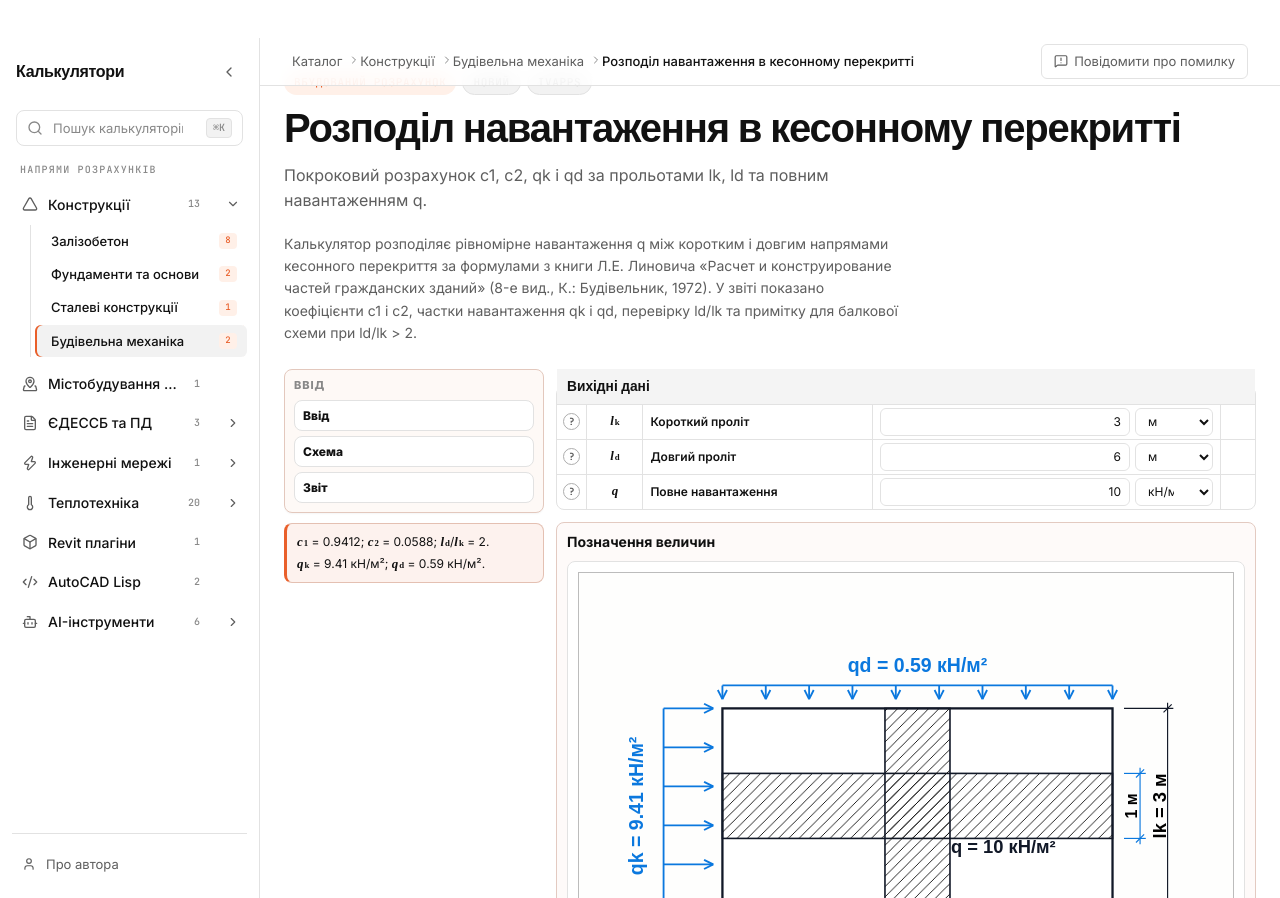
Test: CalculatorShell › renders the native cassoon load distribution calculator with a step report
Expected: the heading "Розподіл навантаження в кесонному перекритті" is shown, [284, 107, 1256, 151]
Expected: the text "Короткий проліт" is shown, [643, 405, 873, 439]
Replace the text in the field labelled "Довгий проліт" with "6.3": (1005, 457) [880, 443, 1130, 471]
(page scrolled)
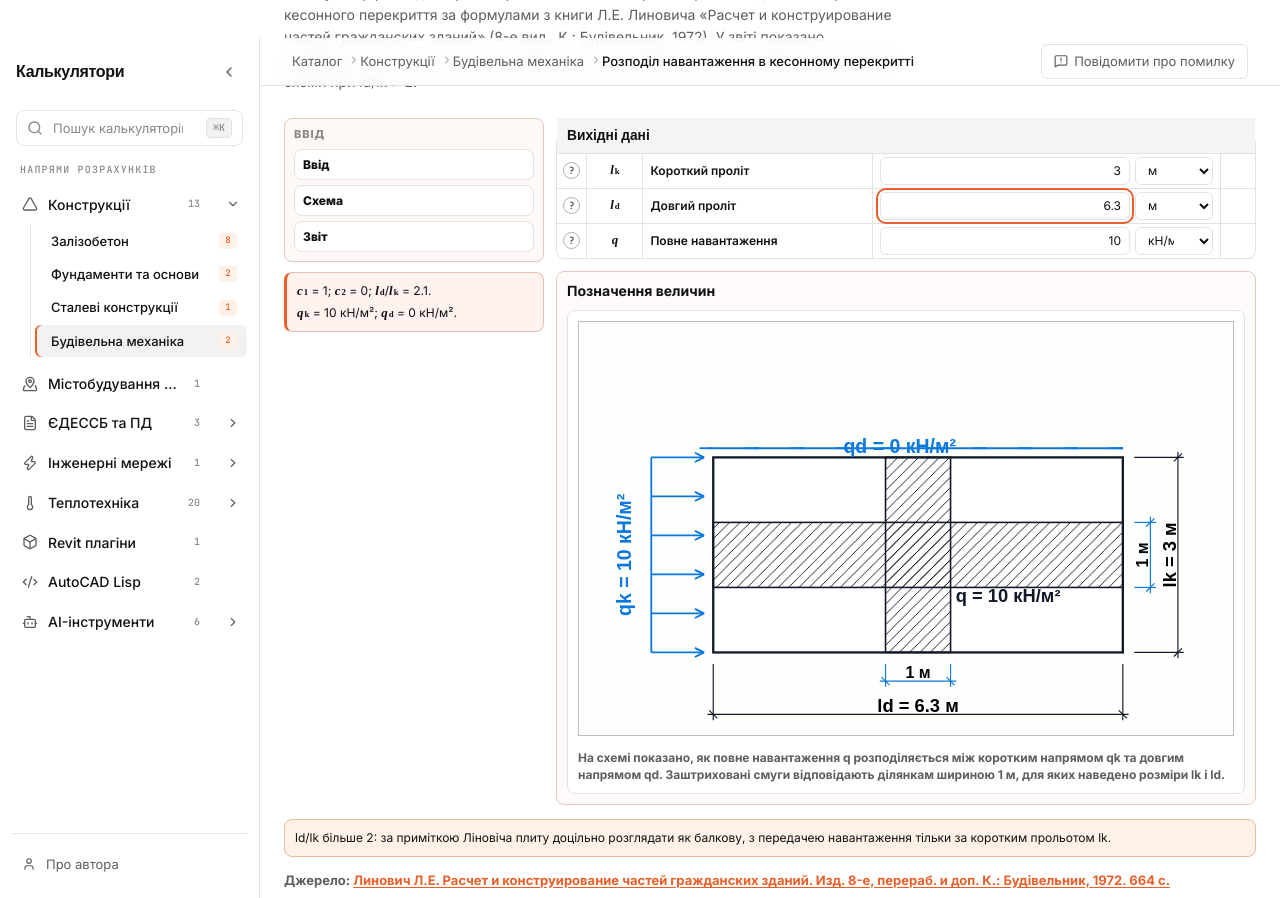
Now the text "ld/lk більше 2: за приміткою Ліновіча" is shown, box [295, 830, 1111, 845]
Now the picture named "Параметрична схема розподілу навантаження q між напрямами lk і ld: lk 3 м, ld 6.3 м" shows "ld = 6.3 м", box [877, 696, 959, 716]
Now the picture named "Параметрична схема розподілу навантаження q між напрямами lk і ld: lk 3 м, ld 6.3 м" shows "qk = 10 кН/м²", box [613, 494, 635, 616]
